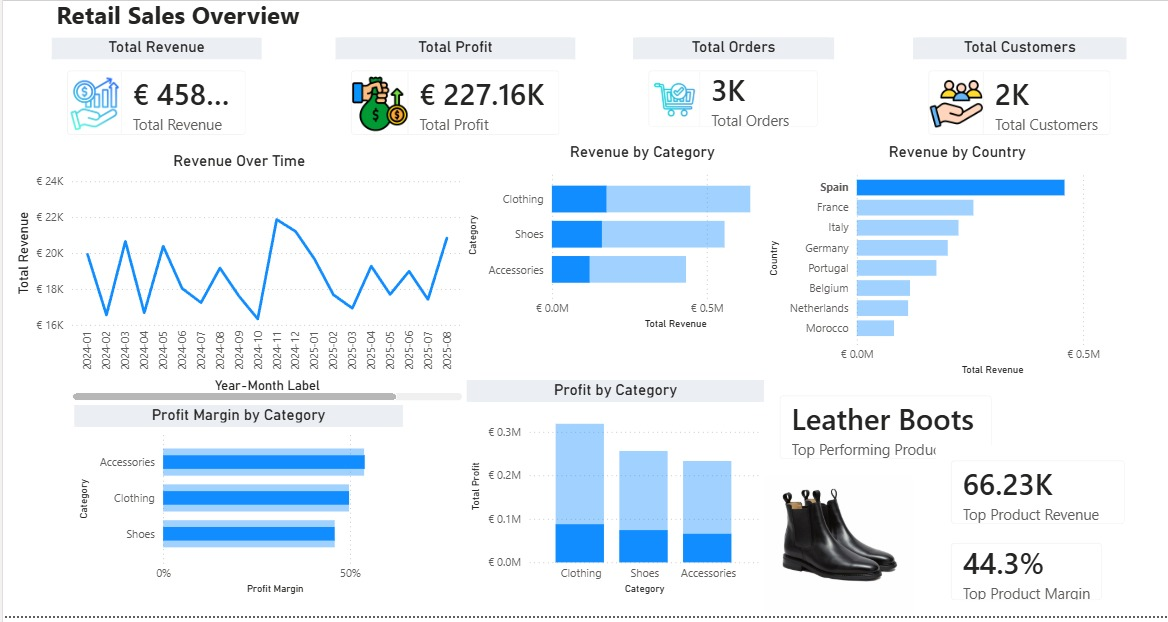

This screenshot's page, from the dashboard's own definition file:
{"tool":"powerbi","page":{"name":"Retail overview","canvas":[1280,720],"ordinal":0},"visuals":[{"type":"cardVisual","title":"Total Revenue","fields":{"Data":["Sales.Total Revenue"]},"box":[53.5,85.1,230.5,124.9],"z":0},{"type":"cardVisual","title":"Total Profit","fields":{"Data":["Sales.Total Profit"]},"box":[365,85.1,263.5,124.9],"z":1000},{"type":"cardVisual","title":"Total Orders","fields":{"Data":["Sales.Total Orders"]},"box":[691.6,85.1,220.9,115.3],"z":2000},{"type":"cardVisual","title":"Total Customers","fields":{"Data":["Sales.Total Customers"]},"box":[999,85.1,234.6,124.9],"z":3000},{"type":"lineChart","title":"Revenue Over Time","fields":{"Y":["Sales.Total Revenue"],"Category":["Date.Year-Month Label"]},"box":[9.6,209.9,499.5,278.6],"z":4000},{"type":"clusteredBarChart","title":"Revenue by Category","fields":{"Y":["Sales.Total Revenue"],"Category":["Sales.Category"]},"box":[505,200.3,393.8,209.9],"z":5000},{"type":"columnChart","title":"Profit by Category","fields":{"Y":["Sales.Total Profit"],"Category":["Sales.Category"]},"box":[509.1,461.1,326.6,240.1],"z":6000},{"type":"clusteredBarChart","title":"Revenue by Country","fields":{"Y":["Sales.Total Revenue"],"Category":["Countries.Country"]},"box":[835.7,200.3,424,260.7],"z":7000},{"type":"clusteredBarChart","fields":{"Category":["Sales.Category"],"Y":["Sales.Profit Margin"]},"box":[78.2,488.5,360.9,212.7],"z":8000},{"type":"image","box":[835.7,551.6,163.3,168.8],"z":9000},{"type":"cardVisual","fields":{"Data":["Sales.Top Performing Product"]},"box":[835.7,461.1,267.6,104.3],"z":10000},{"type":"cardVisual","fields":{"Data":["Sales.Top Product Margin"]},"box":[1023.7,623,200.3,97.4],"z":11000},{"type":"cardVisual","fields":{"Data":["Sales.Top Product Revenue"]},"box":[1023.7,532.4,225,104.3],"z":12000},{"type":"textbox","box":[53.5,37,311.5,48],"z":13000}]}

Visuals, with their boxes on the page's 1280x720 design canvas (x1, y1, x2, y2). These are canvas units, not pixel positions in the 1168x622 screenshot, which may show the page scaled, cropped or inside an application window:
"Total Revenue" cardVisual: [x1=54, y1=85, x2=284, y2=210]
"Total Profit" cardVisual: [x1=365, y1=85, x2=628, y2=210]
"Total Orders" cardVisual: [x1=692, y1=85, x2=912, y2=200]
"Total Customers" cardVisual: [x1=999, y1=85, x2=1234, y2=210]
"Revenue Over Time" lineChart: [x1=10, y1=210, x2=509, y2=488]
"Revenue by Category" clusteredBarChart: [x1=505, y1=200, x2=899, y2=410]
"Profit by Category" columnChart: [x1=509, y1=461, x2=836, y2=701]
"Revenue by Country" clusteredBarChart: [x1=836, y1=200, x2=1260, y2=461]
clusteredBarChart - Sales.Category x Sales.Profit Margin: [x1=78, y1=488, x2=439, y2=701]
image: [x1=836, y1=552, x2=999, y2=720]
cardVisual - Sales.Top Performing Product: [x1=836, y1=461, x2=1103, y2=565]
cardVisual - Sales.Top Product Margin: [x1=1024, y1=623, x2=1224, y2=720]
cardVisual - Sales.Top Product Revenue: [x1=1024, y1=532, x2=1249, y2=637]
textbox: [x1=54, y1=37, x2=365, y2=85]
